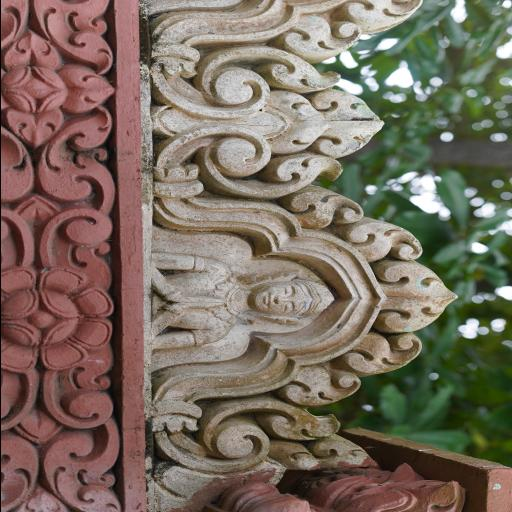la: (156, 56, 374, 192), (0, 260, 114, 380), (172, 404, 352, 480), (0, 35, 116, 141), (364, 258, 448, 332), (54, 422, 123, 512), (44, 204, 118, 272), (38, 145, 110, 208), (45, 0, 114, 62), (332, 332, 440, 370), (288, 16, 362, 70), (344, 216, 428, 262), (0, 208, 54, 278), (54, 368, 112, 431), (293, 178, 358, 234), (0, 433, 42, 512), (337, 0, 430, 34), (288, 364, 370, 402), (0, 135, 41, 205), (0, 373, 39, 430), (0, 0, 36, 51), (7, 497, 75, 512)
